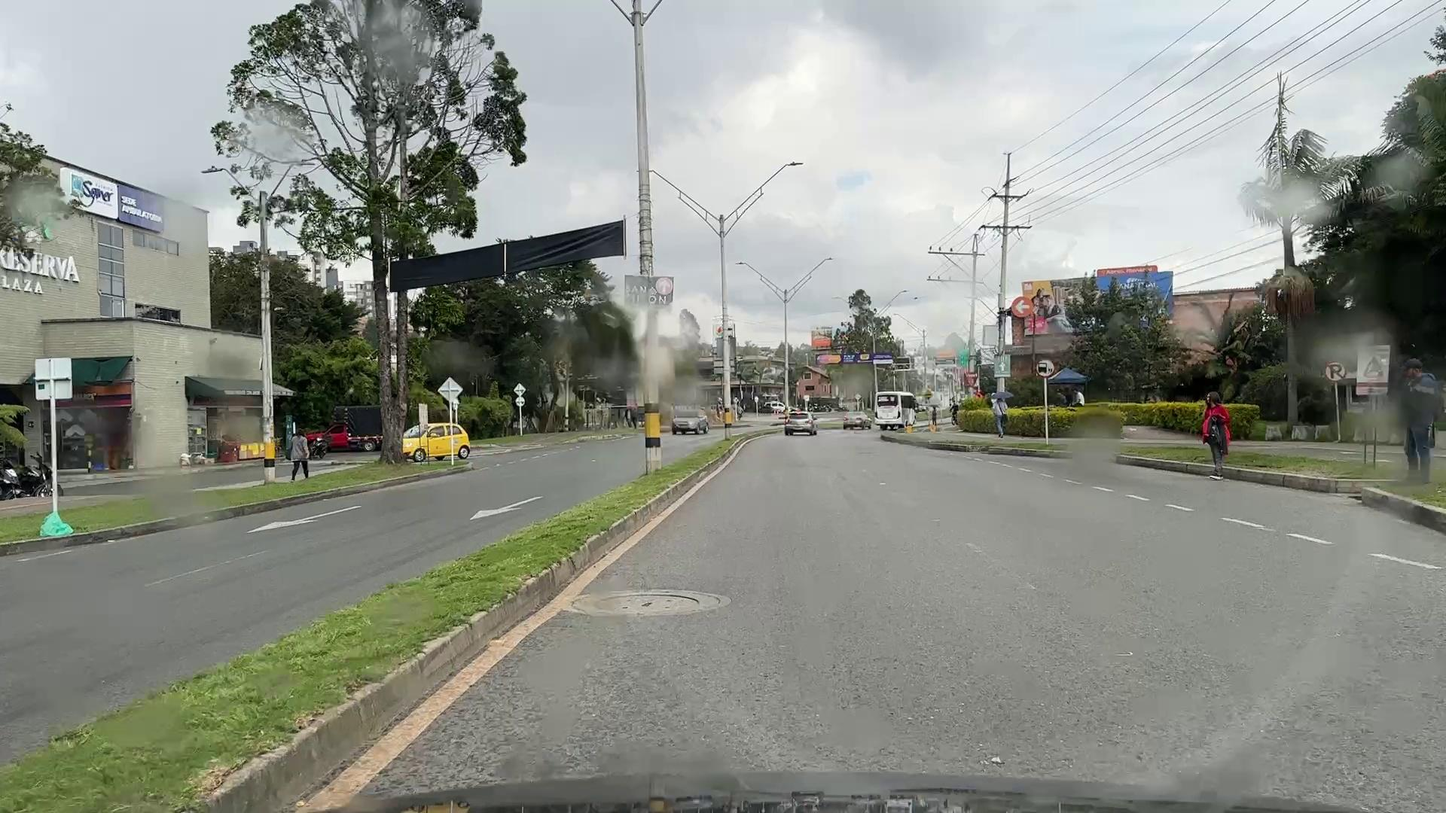registro: (593, 594, 699, 612)
rejilla: (1347, 496, 1362, 501)
